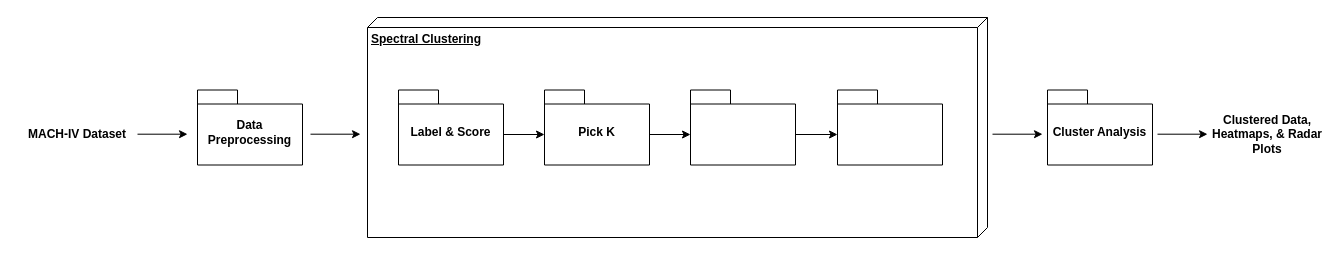
The diagram is 1344 pixels wide and 255 high, and some of its shapes have lost their labels. Each missing label, with the centre of its shape:
Generate Plots & CSVs: point (889, 127)
Plot Spectral Embedding: point (743, 127)
